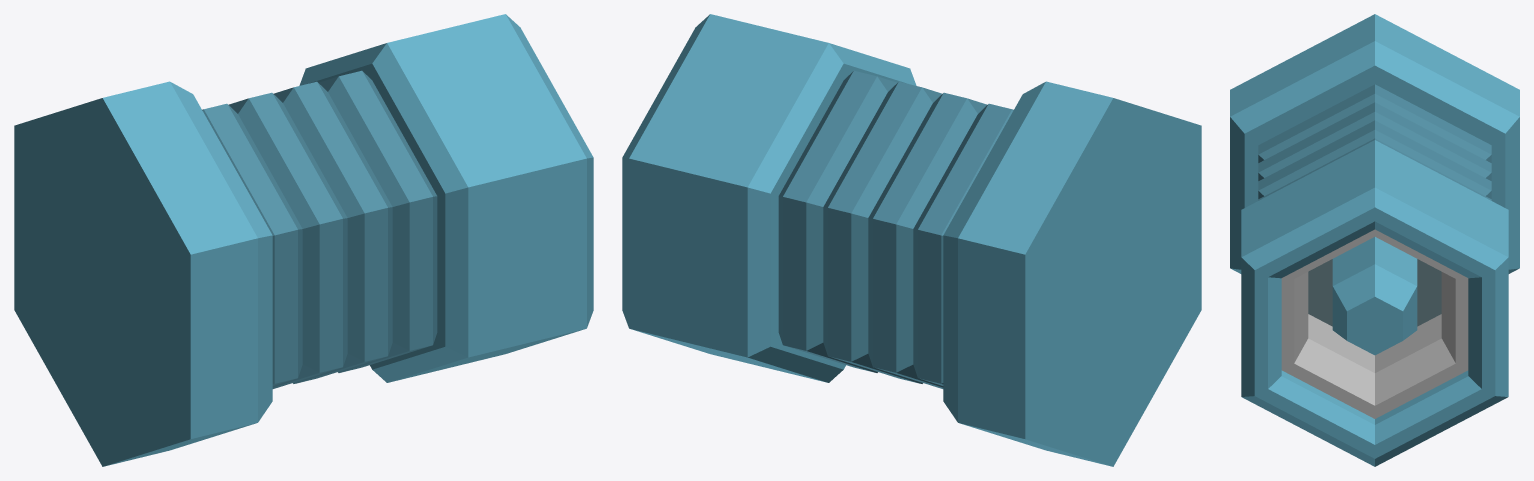
File: spacestation_weapon_flush_mount_cannon.glb
The picture shows the model from 3 angles, left to right: view 1: azimuth 30°, elevation 25°; view 2: azimuth 150°, elevation 25°; view 3: azimuth 270°, elevation 25°; orthographic projection. The views are drawn at different scales.
Bounding box in the file's own units: 0.4082 × 0.3445 × 0.2984.
